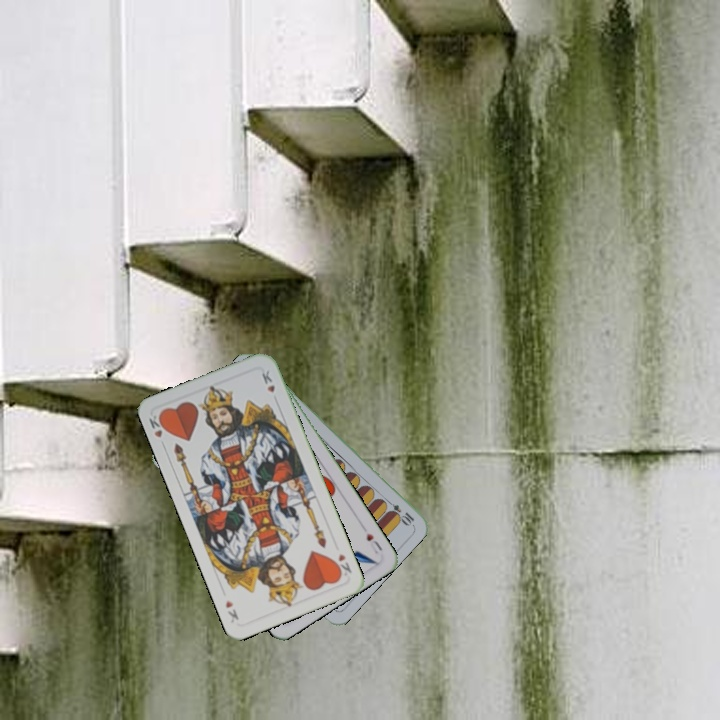E10: (381, 495, 417, 527)
HK: (145, 410, 170, 450), (330, 549, 354, 579)
HU: (362, 529, 385, 557)
